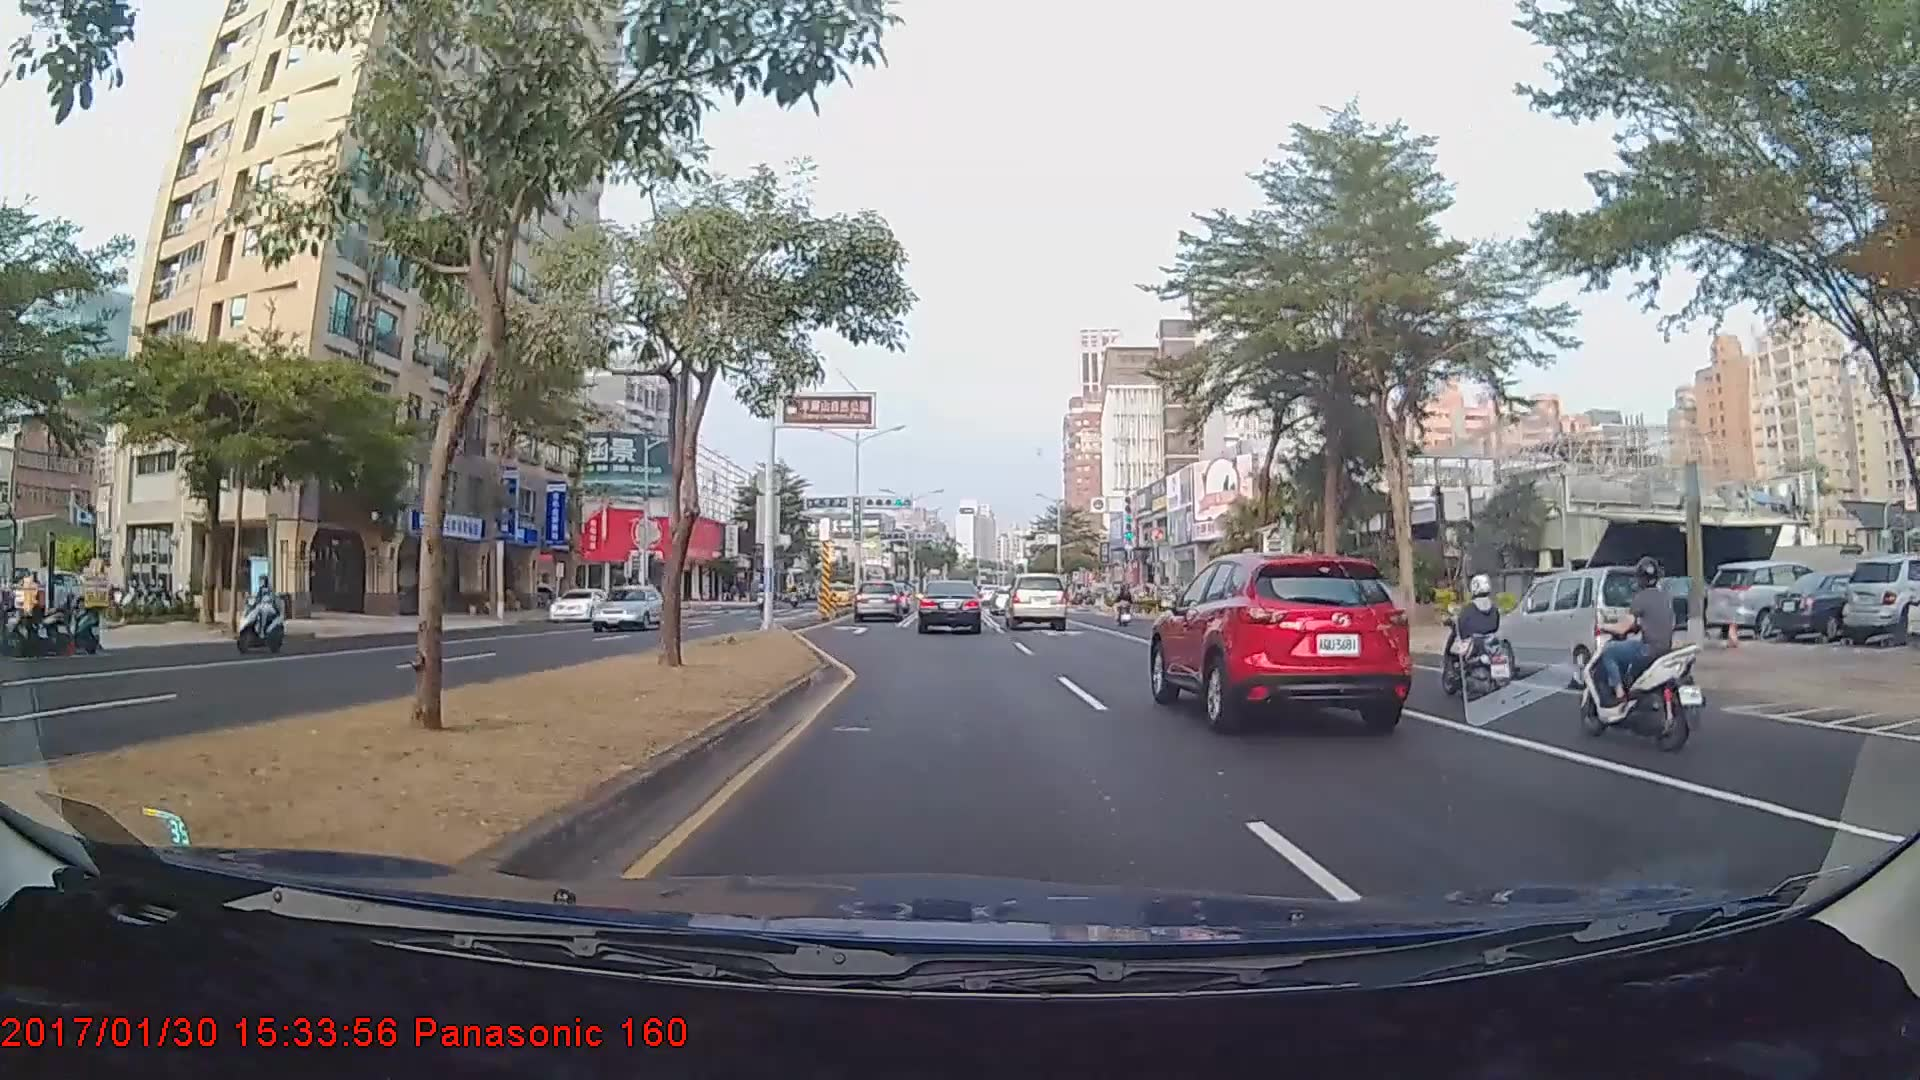rider: (1566, 554, 1706, 747), (1431, 572, 1528, 714), (231, 572, 290, 656), (1116, 587, 1139, 630)
vehicle: (1151, 545, 1413, 726), (1496, 564, 1672, 689), (1705, 561, 1834, 637), (589, 582, 668, 630), (1003, 573, 1068, 630), (918, 580, 982, 634), (852, 579, 915, 623), (548, 587, 613, 621)
